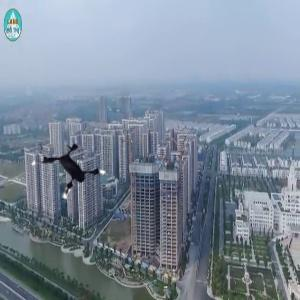drone: (25, 131, 114, 220)
